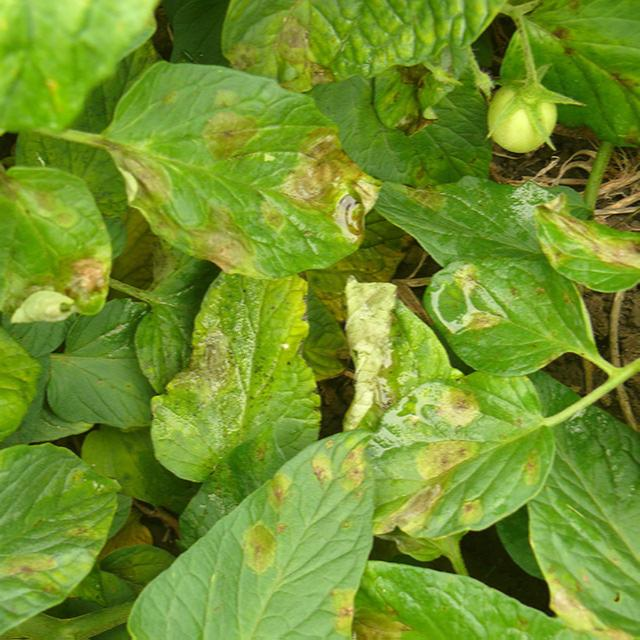Tomato leaf late blight: (63, 384, 401, 640), (104, 47, 376, 295), (164, 253, 356, 515), (341, 359, 575, 553), (0, 127, 124, 363), (418, 249, 613, 389), (0, 427, 126, 640), (519, 180, 640, 302), (0, 301, 52, 490)
